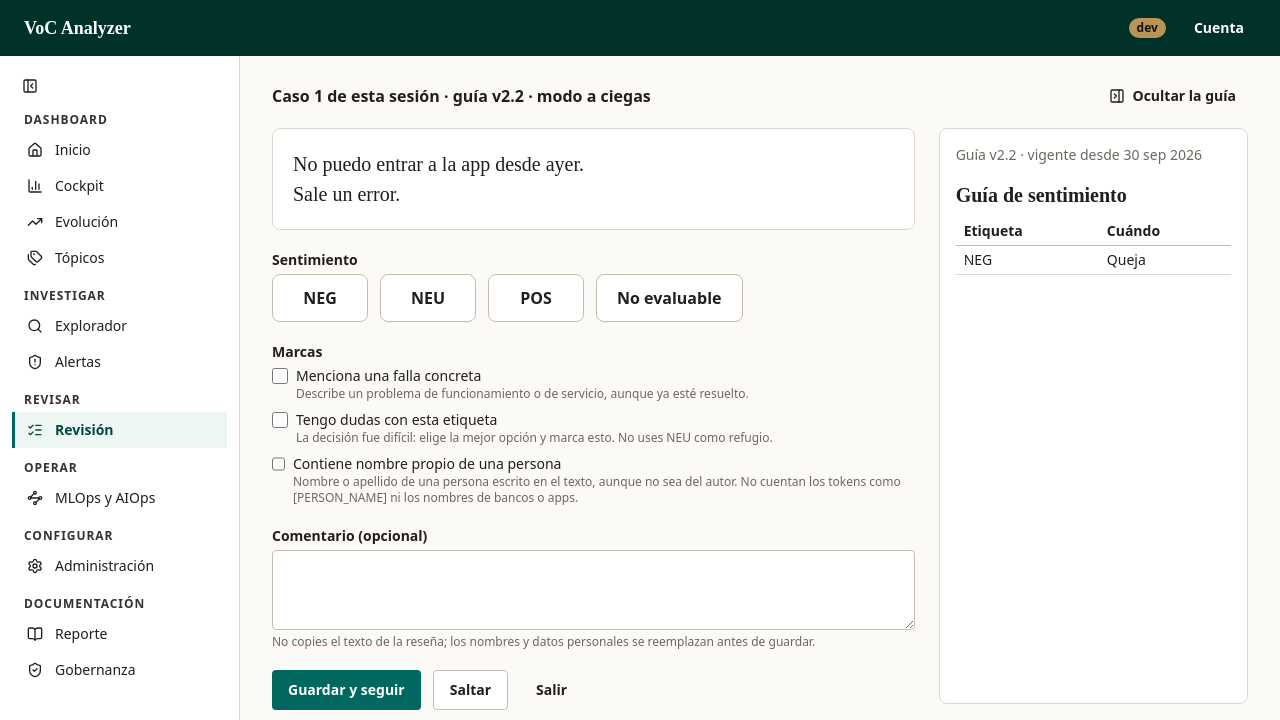
Scenario: revisión de sentimiento › a ciegas: sin propuesta y sin nada preseleccionado; Guardar pide un sentimiento
Expected: the heading "Caso 1 de esta sesión · guía v2.2 · modo a ciegas" is shown, [272,84,651,108]
Expected: the radio button labelled "NEG" is not checked, [272,274,368,322]
Click the button "Guardar y seguir" at (346, 690), box [272,670,421,710]
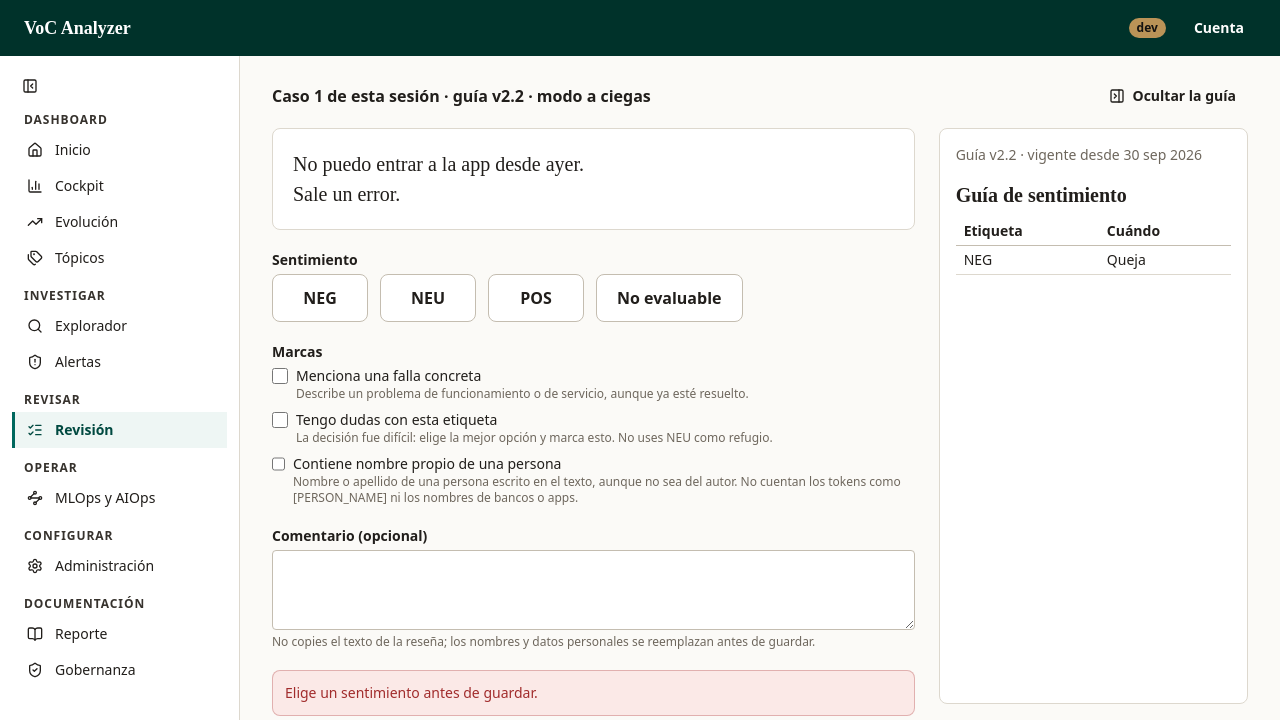
Now the message shows "Elige un sentimiento", box [285,683,538,702]
